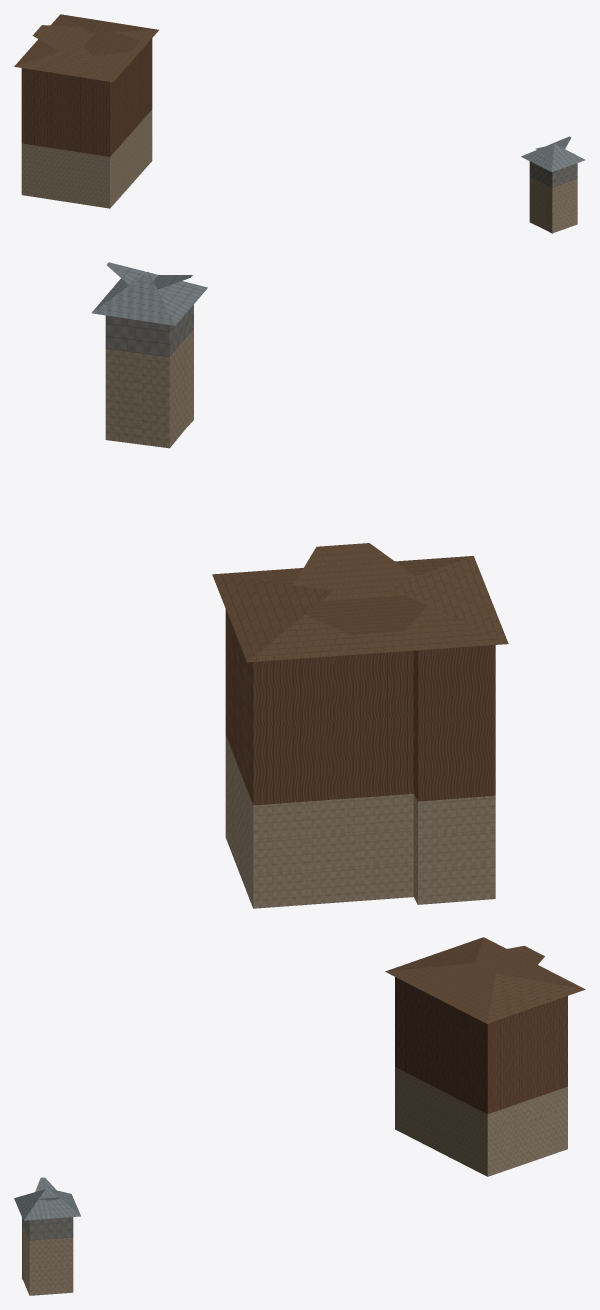
File: bld_c16_26_397.gltf
3 renders of one model, top to bottom at view 1: azimuth 30°, elevation 25°; view 2: azimuth 150°, elevation 25°; view 3: azimuth 270°, elevation 25°, orthographic. The views are drawn at different scales.
Visible parts, largest first — view 1: bld_c16_26_397; view 2: bld_c16_26_397; view 3: bld_c16_26_397.
Boxes of the visible parts, x1,y1,x2,y2 form: bld_c16_26_397: (14,14,585,233); bld_c16_26_397: (91,262,508,908); bld_c16_26_397: (14,937,585,1295).
Size of the model in its own units: 39.5 by 13.8 by 42.24.
5 materials, 5 textured.
